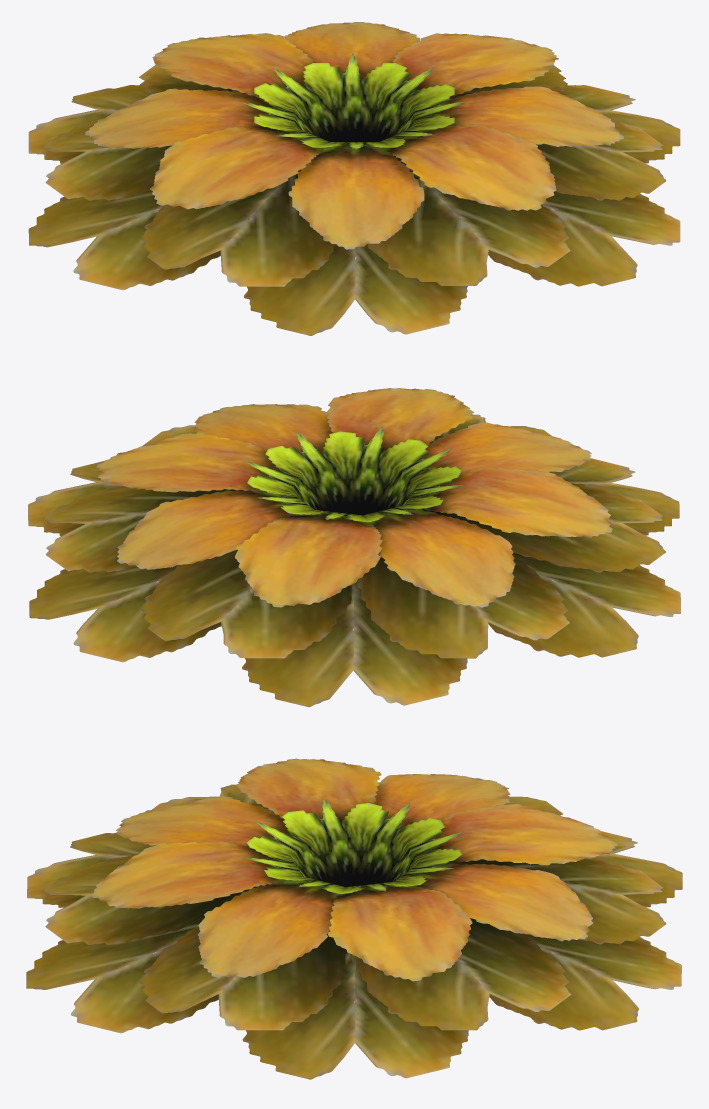
File: deku_flower.dae
3 renders of one model, top to bottom at view 1: azimuth 30°, elevation 25°; view 2: azimuth 150°, elevation 25°; view 3: azimuth 270°, elevation 25°, orthographic.
Visible parts, largest first — view 1: deku_flower2; view 2: deku_flower2; view 3: deku_flower2.
Boxes of the visible parts, bbox=[...] form: deku_flower2: bbox=[28, 22, 680, 335]; deku_flower2: bbox=[28, 388, 680, 707]; deku_flower2: bbox=[26, 758, 682, 1079].
Bounding box in the file's own units: 0.8626 × 0.7633 × 0.1126.
1 material, 1 textured.
